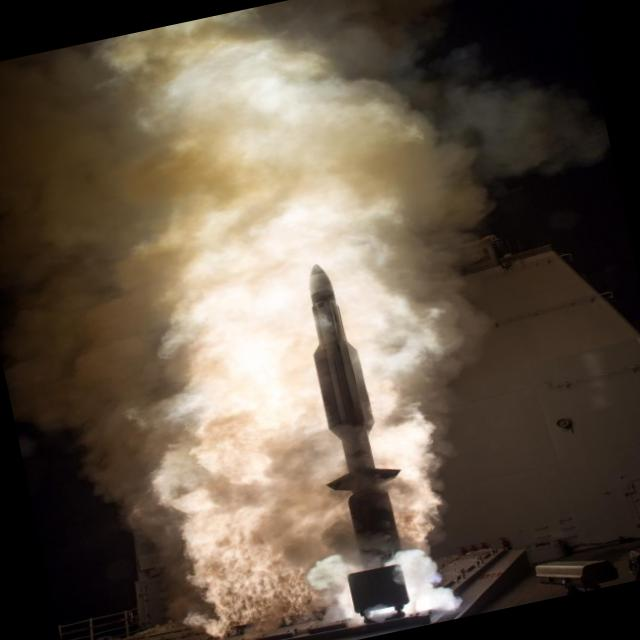rocket: (279, 262, 416, 601)
